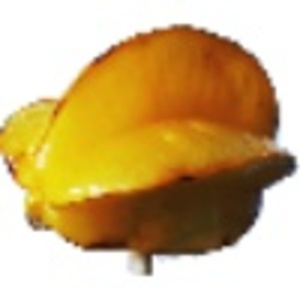carambola: (1, 23, 300, 277)
